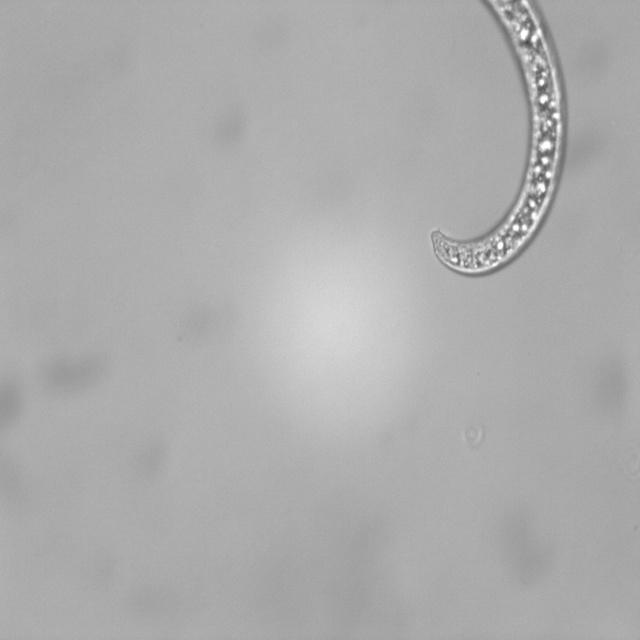Helicotylenchus: (426, 0, 576, 280)
